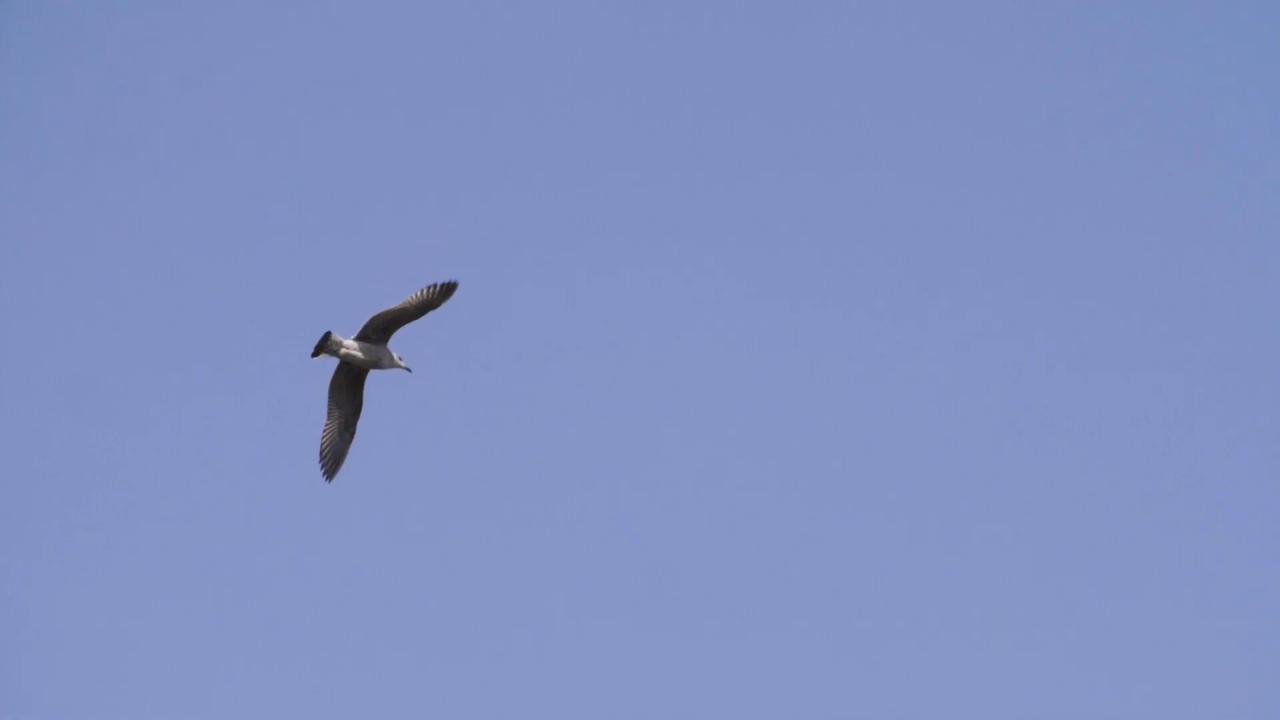Bird: (301, 266, 466, 492)
